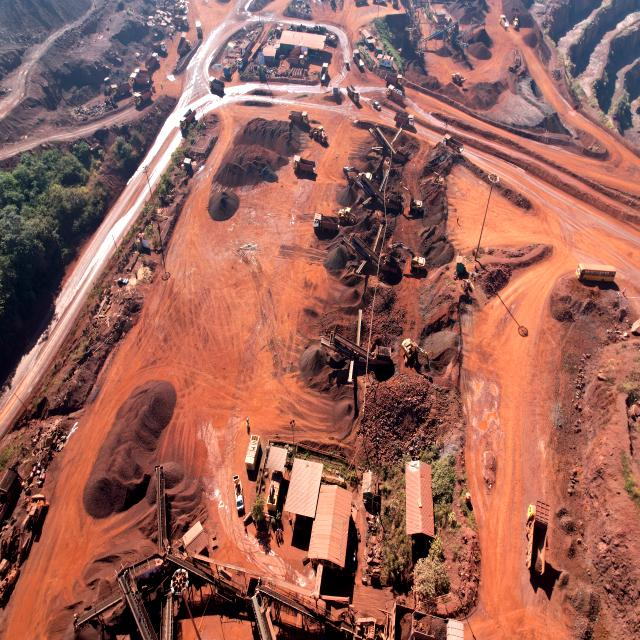Dumper truck: (530, 502, 558, 600), (526, 502, 550, 601), (315, 214, 340, 235), (294, 156, 316, 177), (293, 156, 314, 173), (129, 67, 147, 84), (130, 69, 148, 85), (134, 89, 152, 105), (132, 70, 150, 86), (290, 110, 309, 124), (134, 72, 150, 88), (180, 110, 194, 128), (133, 74, 151, 88), (209, 79, 224, 95), (135, 91, 150, 107), (400, 114, 415, 130), (288, 46, 303, 62), (291, 46, 306, 61), (401, 114, 415, 130), (296, 46, 308, 64), (180, 33, 190, 54), (388, 87, 403, 101), (387, 77, 402, 91), (237, 52, 248, 70), (402, 115, 415, 130), (388, 87, 403, 100), (297, 46, 309, 62), (352, 45, 362, 64), (352, 43, 362, 62), (146, 55, 159, 69), (442, 135, 455, 149), (348, 86, 360, 101), (109, 86, 124, 98), (314, 212, 322, 234), (152, 42, 165, 55), (148, 54, 160, 68), (388, 77, 402, 89), (449, 140, 463, 152), (388, 85, 403, 96), (296, 51, 307, 65), (174, 17, 188, 28), (441, 136, 453, 148), (246, 2, 258, 14), (157, 42, 168, 55), (194, 22, 204, 36), (321, 62, 329, 79), (246, 0, 258, 11), (322, 63, 329, 81), (194, 22, 202, 37), (500, 14, 508, 26), (501, 15, 509, 26), (513, 19, 520, 30), (353, 0, 368, 5), (514, 16, 520, 28), (392, 0, 398, 7)
Excavator: (16, 490, 46, 563), (388, 242, 424, 272), (396, 179, 423, 216), (402, 338, 431, 372), (344, 164, 359, 185), (361, 171, 372, 187), (326, 34, 336, 44)
car: (372, 101, 382, 111)
person: (245, 419, 250, 429), (275, 530, 278, 540), (280, 528, 283, 538), (457, 216, 459, 223)
